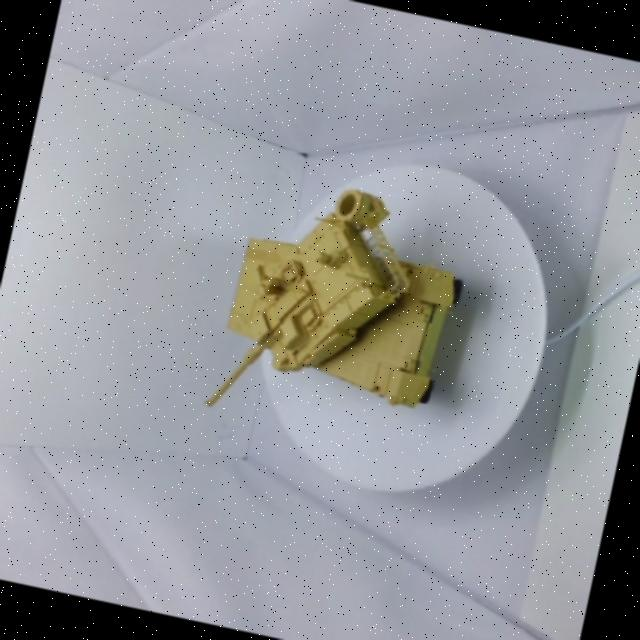korea tank: (148, 135, 504, 518)
